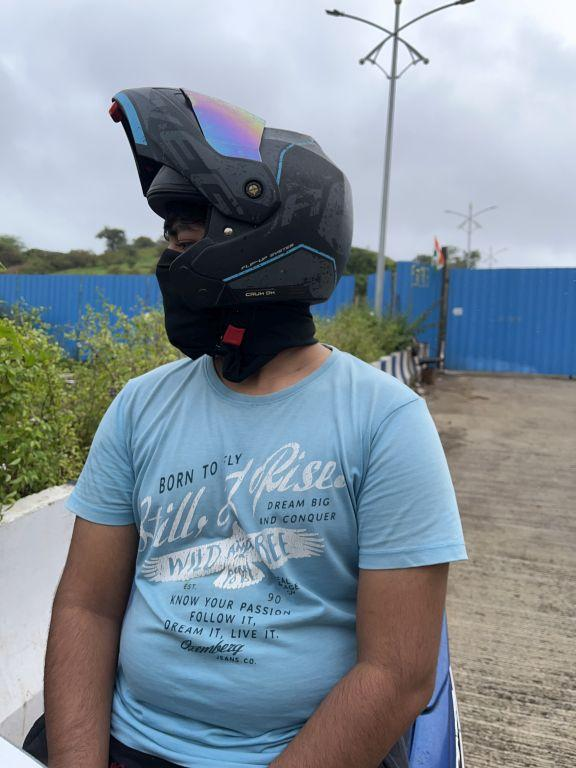helmet: (92, 69, 354, 371)
